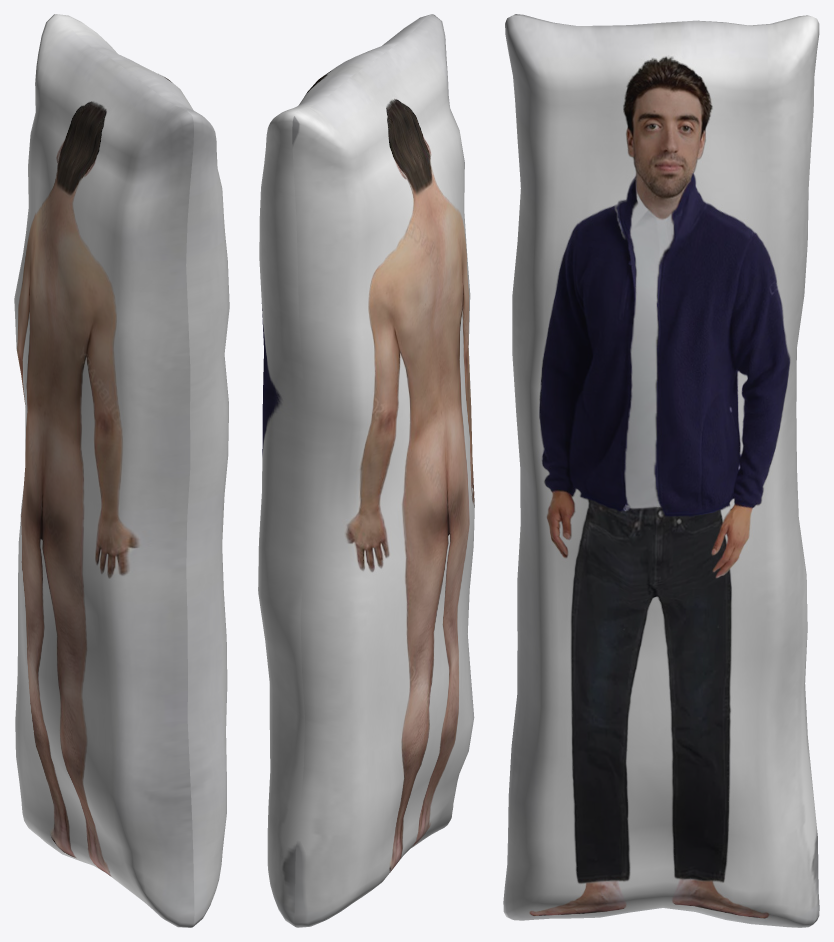
The model's file is herr mate.fbx.
3 views of the same model, side by side, from view 1: azimuth 30°, elevation 25°; view 2: azimuth 150°, elevation 25°; view 3: azimuth 270°, elevation 25° (orthographic). The views are drawn at different scales.
Visible parts, largest first — view 1: bodypillow_mate; view 2: bodypillow_mate; view 3: bodypillow_mate.
Part boxes in pixels (bbox=[...]): bodypillow_mate: bbox=[14, 14, 229, 927]; bodypillow_mate: bbox=[258, 14, 474, 927]; bodypillow_mate: bbox=[503, 14, 819, 927].
Bounding box in the file's own units: 1.1 × 5.24 × 1.65.
Materials: 2 (2 with a texture image).
